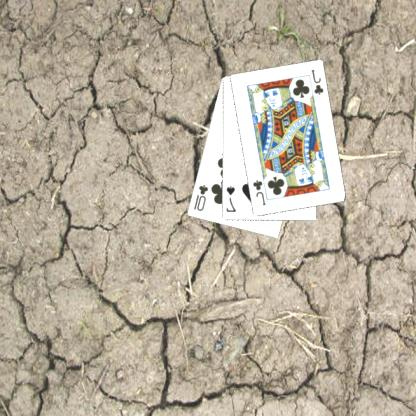10C: (193, 182, 211, 212)
7S: (225, 183, 239, 214)
JC: (251, 178, 269, 208), (310, 66, 327, 96)
